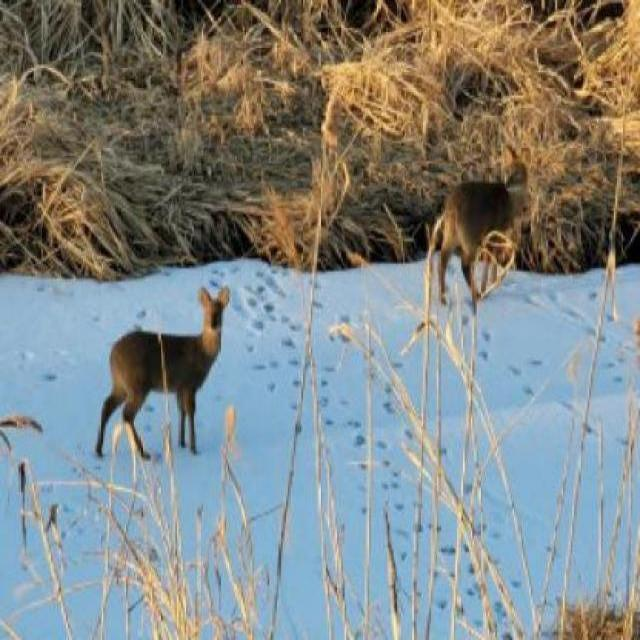deer: (92, 279, 234, 461), (436, 141, 532, 304)
